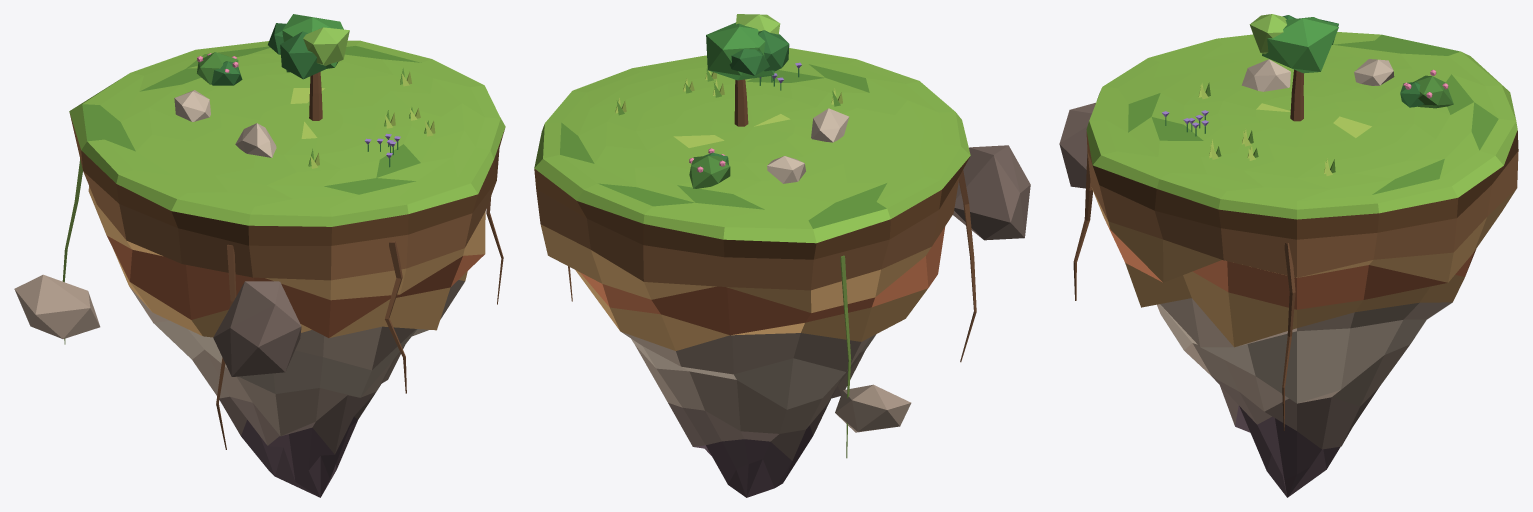
File: islet_a.glb
3 renders of one model, left to right at view 1: azimuth 30°, elevation 25°; view 2: azimuth 150°, elevation 25°; view 3: azimuth 270°, elevation 25°, orthographic.
Parts seen in each view (by area): view 1: Island-col, Debris, Dressing, Roots; view 2: Island-col, Dressing, Debris, Roots; view 3: Island-col, Dressing, Debris, Roots.
Part boxes in pixels (x1,y1,x2,y2): Island-col: (69,40,505,497); Debris: (14,274,301,376); Dressing: (174,14,435,168); Roots: (62,159,503,449); Island-col: (534,48,970,497); Dressing: (615,14,848,188); Debris: (835,145,1030,432); Roots: (568,170,976,458); Island-col: (1086,32,1518,497); Dressing: (1162,14,1453,175); Debris: (1059,102,1095,188); Roots: (1073,151,1295,430).
Size of what is drawn, in the model's own units: 17.31 by 19.45 by 16.8.
